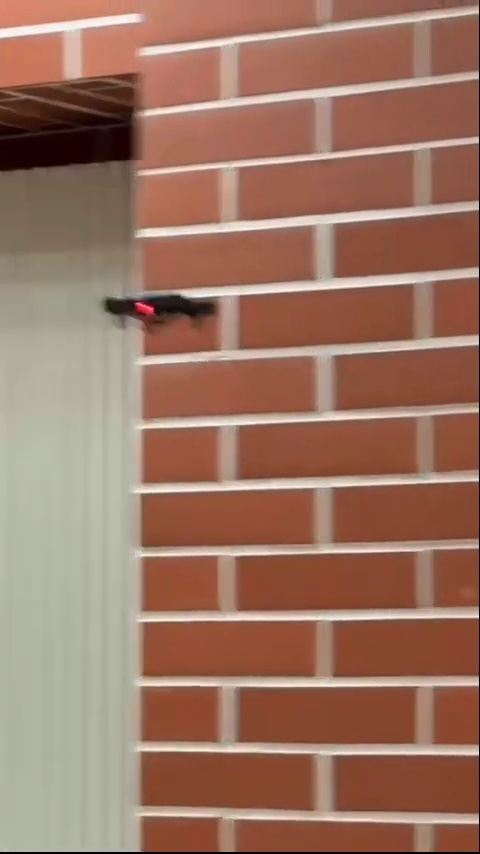drone: (102, 289, 213, 335)
